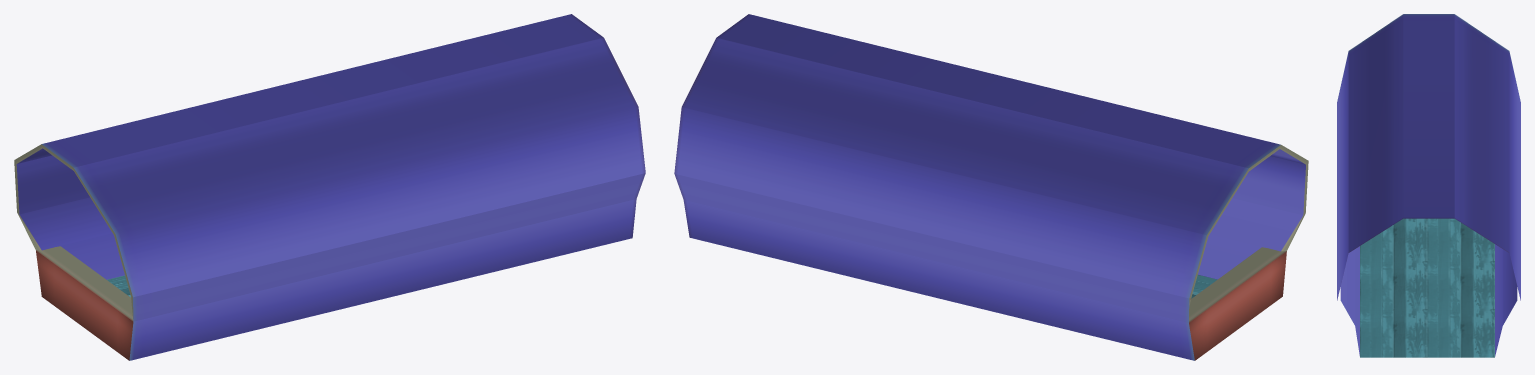
File: booth05.glb
3 renders of one model, left to right at view 1: azimuth 30°, elevation 25°; view 2: azimuth 150°, elevation 25°; view 3: azimuth 270°, elevation 25°, orthographic. The views are drawn at different scales.
Parts seen in each view (by area): view 1: booth05; view 2: booth05; view 3: booth05.
Part boxes in pixels (left/top/right/bottom): booth05: left=14, top=14, right=645, bottom=360; booth05: left=674, top=14, right=1308, bottom=360; booth05: left=1337, top=14, right=1520, bottom=357.
Bounding box in the file's own units: 1985 × 643 × 752.
Materials: 4 (4 with a texture image).
